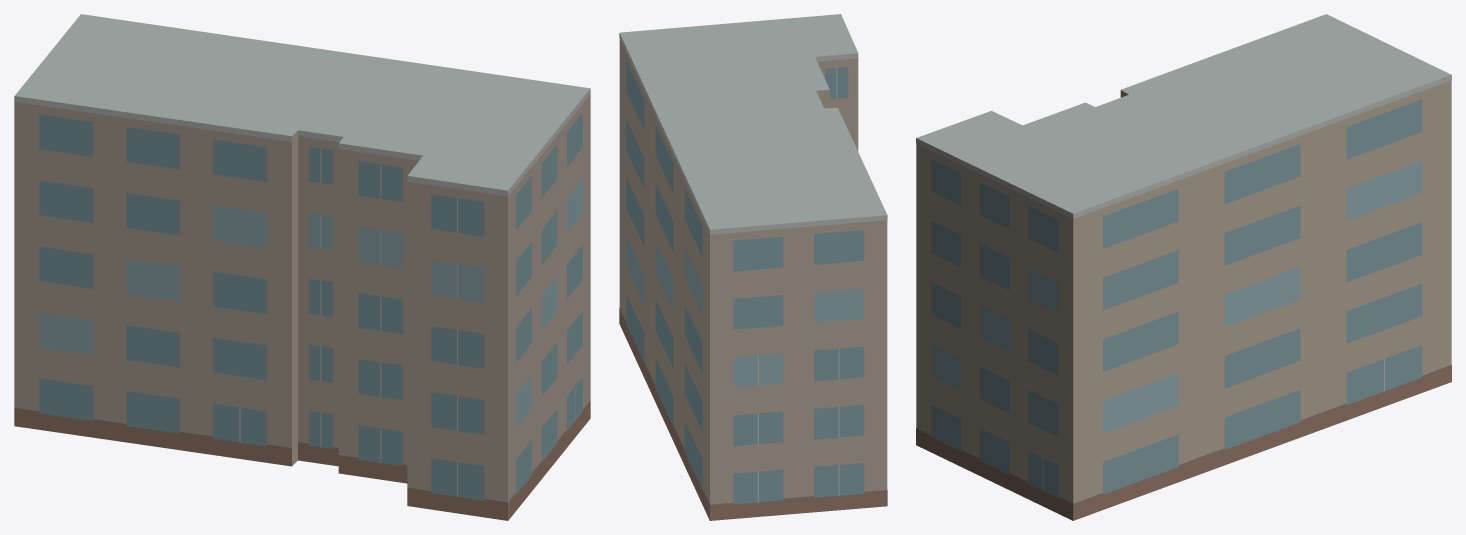
File: survey-upis-32628471.glb
The picture shows the model from 3 angles, left to right: view 1: azimuth 30°, elevation 25°; view 2: azimuth 150°, elevation 25°; view 3: azimuth 270°, elevation 25°; orthographic projection. The views are drawn at different scales.
Parts seen in each view (by area): view 1: survey-upis-32628471.tmp; view 2: survey-upis-32628471.tmp; view 3: survey-upis-32628471.tmp.
Part boxes in pixels (x1=…): survey-upis-32628471.tmp: x1=14, y1=14, x2=590, y2=520; survey-upis-32628471.tmp: x1=619, y1=14, x2=887, y2=520; survey-upis-32628471.tmp: x1=916, y1=14, x2=1451, y2=520.
Bounding box in the file's own units: 19.53 × 14 × 22.13.
